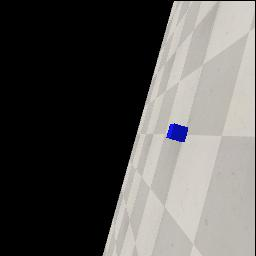box: (166, 123, 188, 142)
